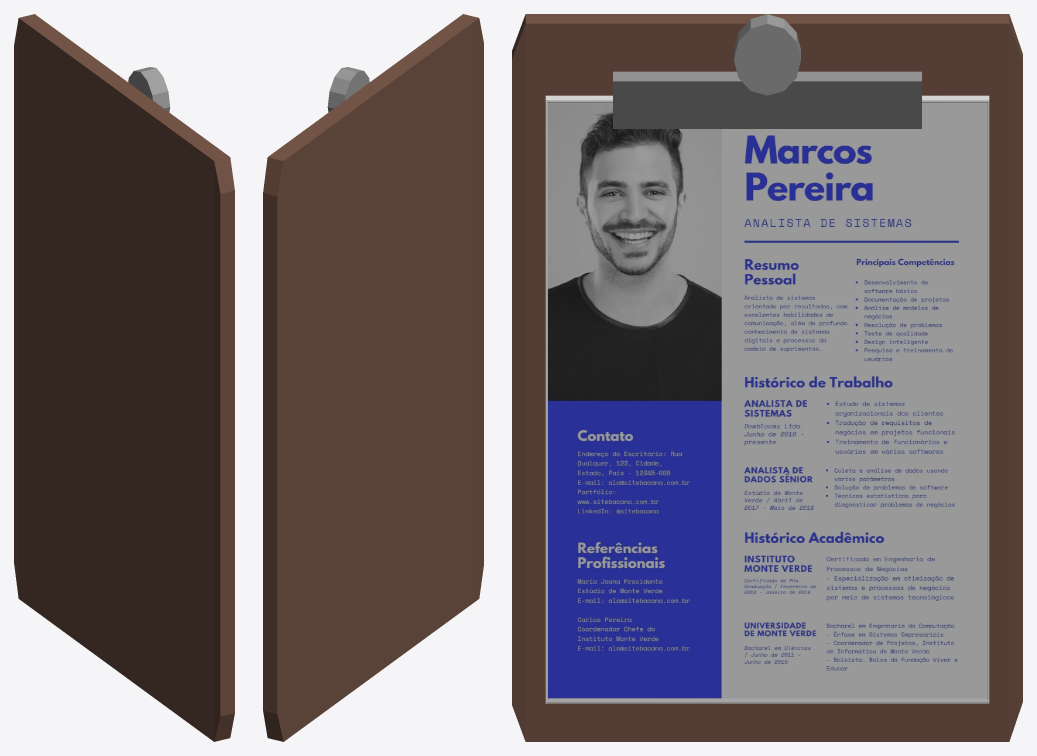
File: clipboard.glb
3 renders of one model, left to right at view 1: azimuth 30°, elevation 25°; view 2: azimuth 150°, elevation 25°; view 3: azimuth 270°, elevation 25°, orthographic. The views are drawn at different scales.
Parts seen in each view (by area): view 1: Node; view 2: Node; view 3: Node.
Part boxes in pixels (x1=…): Node: x1=14, y1=14, x2=234, y2=741; Node: x1=263, y1=14, x2=483, y2=741; Node: x1=512, y1=14, x2=1022, y2=741.
Size of the model in its own units: 0.05 by 0.7038 by 0.4446.
Materials: 3 (1 with a texture image).
